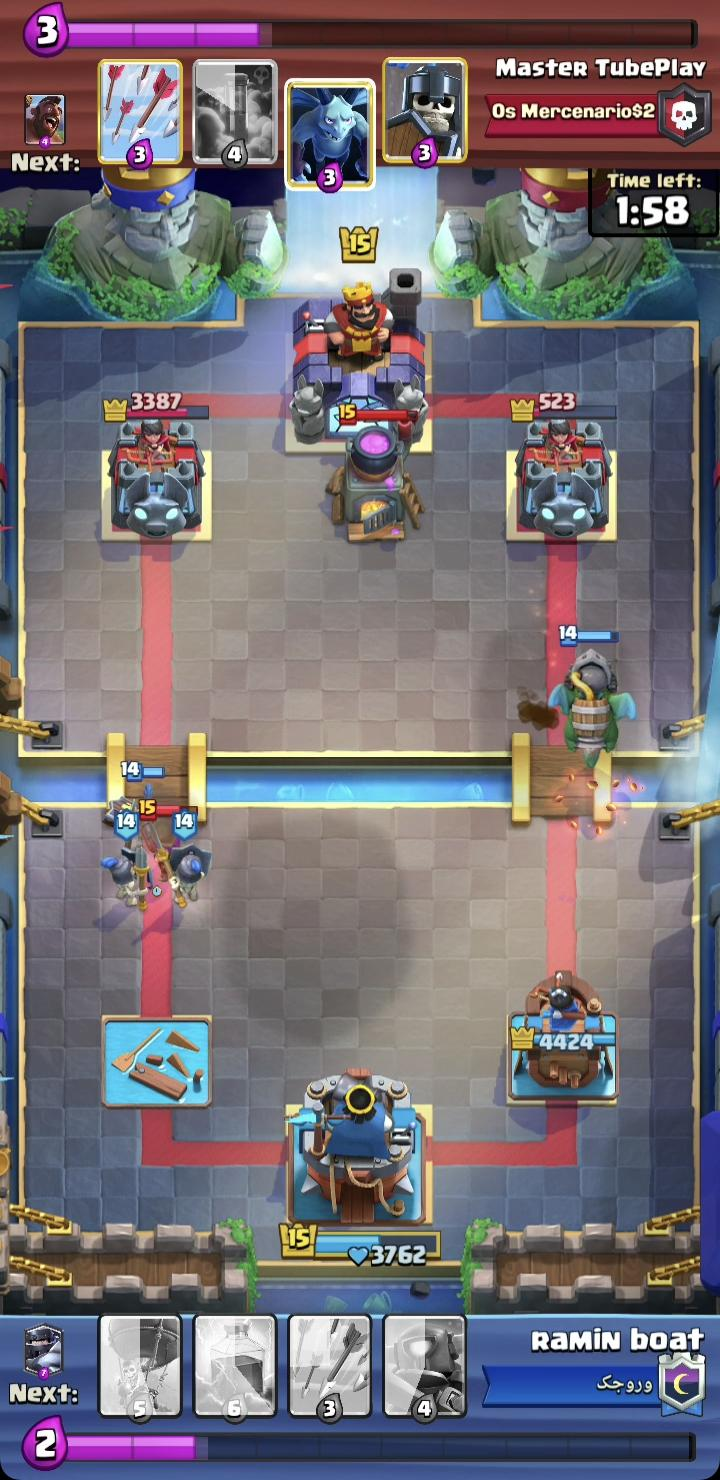ally_guard: (99, 807, 150, 911), (162, 808, 211, 907), (119, 760, 167, 853)
ally_infernodragon: (548, 625, 638, 771)
enemy_furnace: (325, 404, 428, 545)
enemy_musketeer: (134, 796, 192, 874)
